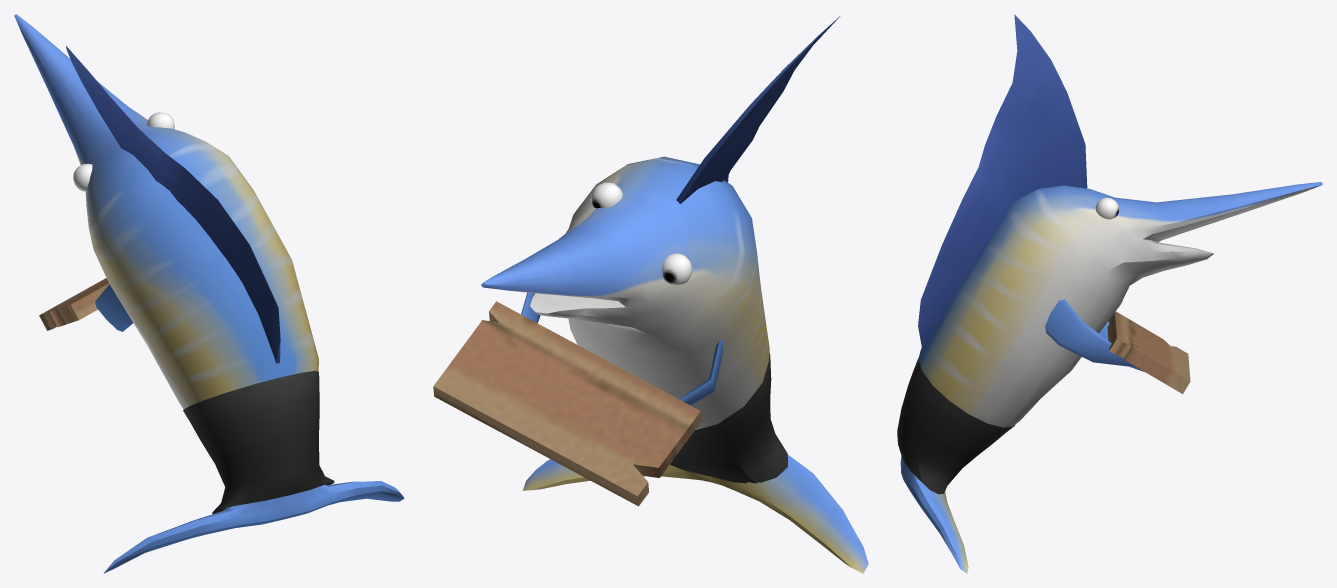
File: kajiki_walk_c_03.fbx
The picture shows the model from 3 angles, left to right: view 1: azimuth 30°, elevation 25°; view 2: azimuth 150°, elevation 25°; view 3: azimuth 270°, elevation 25°; orthographic projection. The views are drawn at different scales.
Parts seen in each view (by area): view 1: W_c_03; view 2: W_c_03; view 3: W_c_03.
Part boxes in pixels (left/top/right/bottom): W_c_03: left=14, top=14, right=404, bottom=573; W_c_03: left=433, top=16, right=868, bottom=573; W_c_03: left=897, top=14, right=1322, bottom=573.
Bounding box in the file's own units: 1.48 × 2.35 × 2.1.
Materials: 1 (1 with a texture image).
